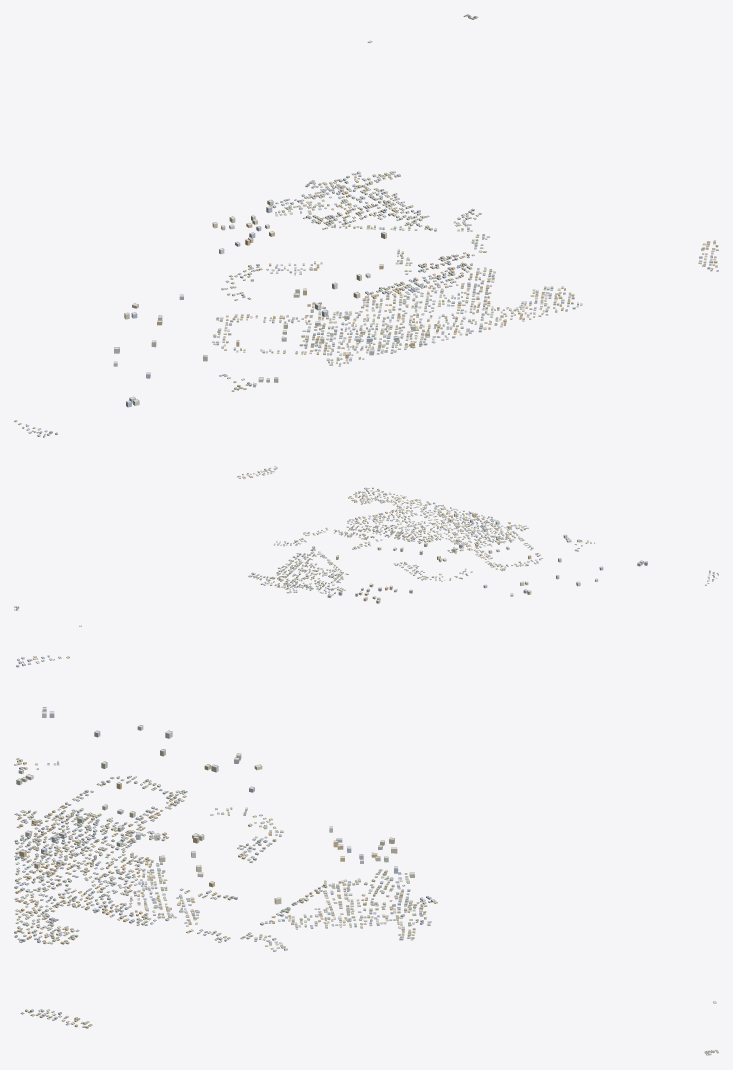
3 renders of one model, top to bottom at view 1: azimuth 30°, elevation 25°; view 2: azimuth 150°, elevation 25°; view 3: azimuth 270°, elevation 25°, orthographic. The views are drawn at different scales.
Parts seen in each view (by area): view 1: house, roof_zinc, apartment; view 2: house, roof_zinc, apartment; view 3: house, roof_zinc, apartment, roof_flat.
Part boxes in pixels (x1,y1,x2,y2): house: [14, 14, 718, 437]; roof_zinc: [14, 14, 718, 436]; apartment: [113, 40, 429, 407]; house: [14, 466, 718, 610]; roof_zinc: [14, 466, 718, 609]; apartment: [79, 513, 647, 626]; house: [14, 655, 718, 1055]; roof_zinc: [15, 655, 718, 1054]; apartment: [16, 707, 716, 1003]; roof_flat: [17, 707, 716, 1002].
Size of the model in its own units: 1.24e+08 by 738403 by 9.23e+07.
